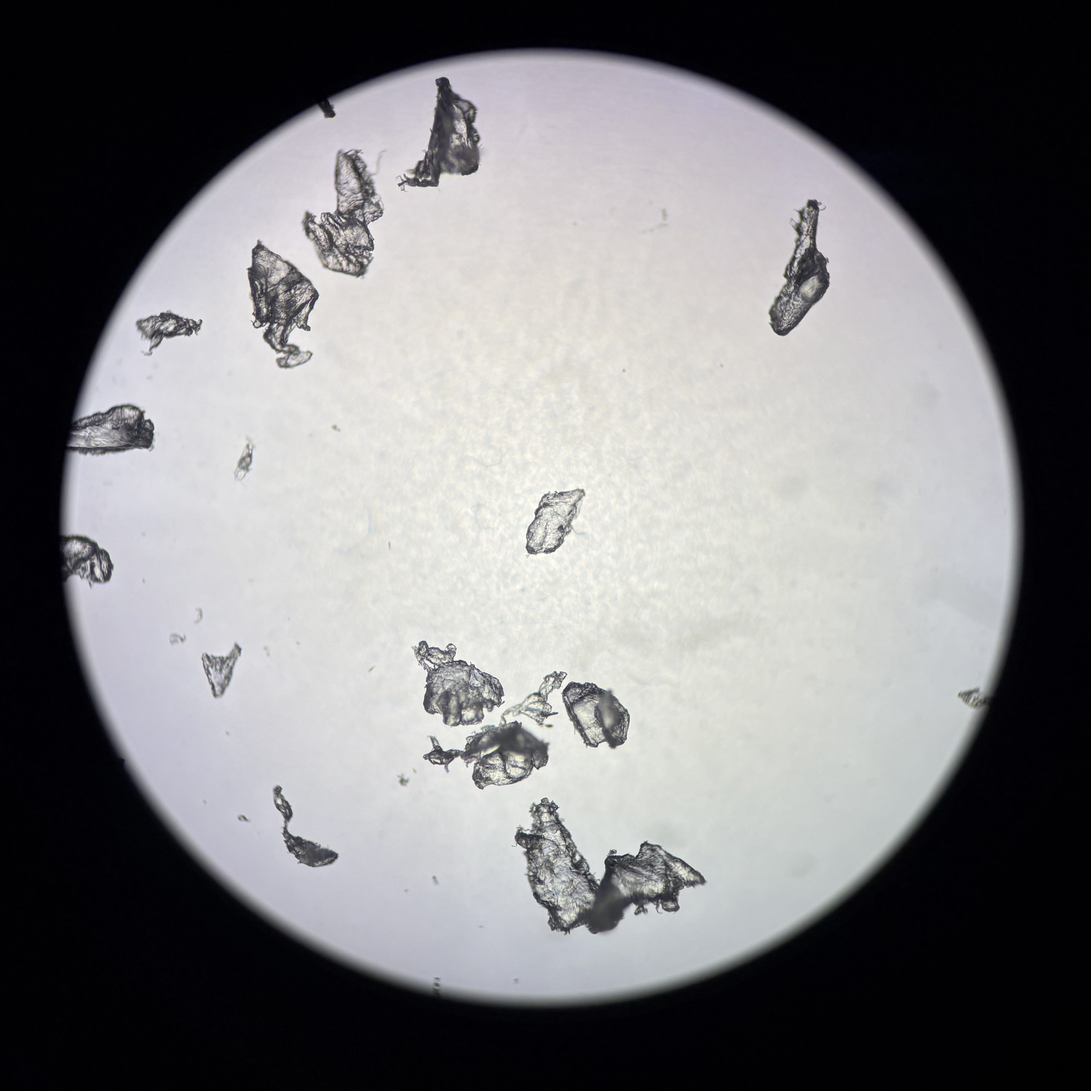microplastic: (516, 799, 714, 935), (300, 147, 387, 281), (237, 243, 320, 373), (400, 77, 487, 193), (770, 196, 835, 338), (406, 642, 508, 728), (423, 725, 553, 788), (270, 780, 341, 869), (523, 484, 601, 563), (60, 400, 163, 455), (560, 680, 636, 749), (504, 666, 567, 723), (132, 310, 207, 356), (59, 534, 114, 589), (197, 638, 246, 697)
